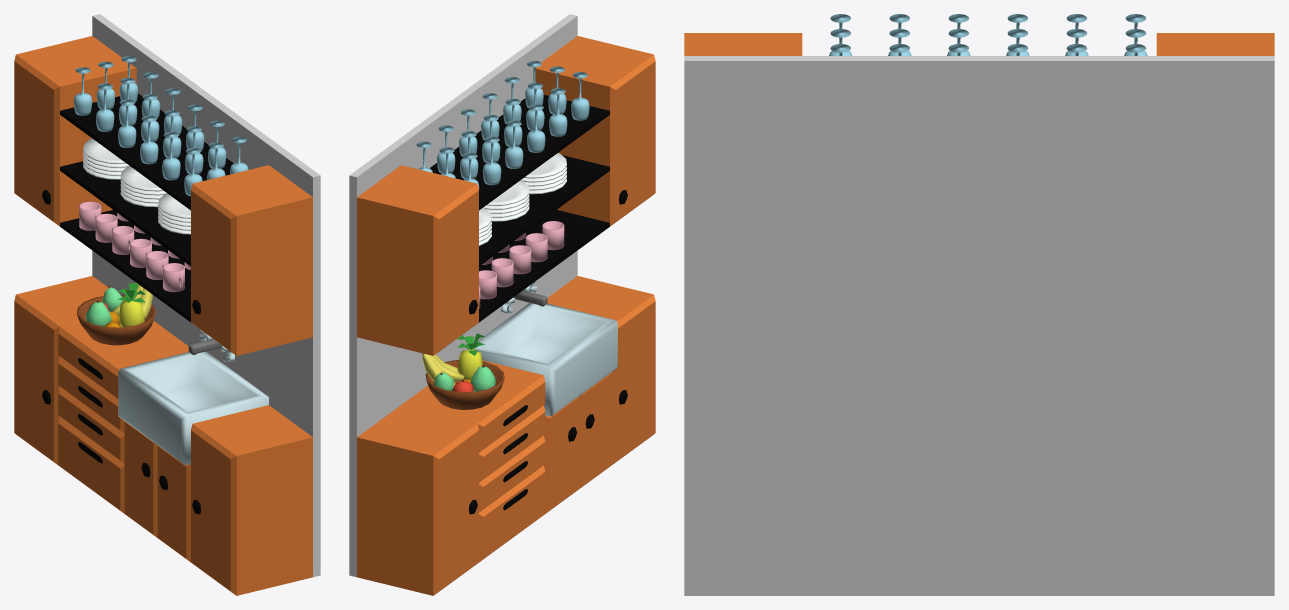
The model's file is kitchenBar.fbx.
3 views of the same model, side by side, from view 1: azimuth 30°, elevation 25°; view 2: azimuth 150°, elevation 25°; view 3: azimuth 270°, elevation 25° (orthographic). The views are drawn at different scales.
Visible parts, largest first — view 1: Cube.003; view 2: Cube.003; view 3: Cube.003.
Boxes of the visible parts, x1,y1,x2,y2 form: Cube.003: (14, 14, 320, 595); Cube.003: (349, 14, 655, 595); Cube.003: (684, 14, 1274, 595).
Size of the model in its own units: 245 by 1000 by 1000.
